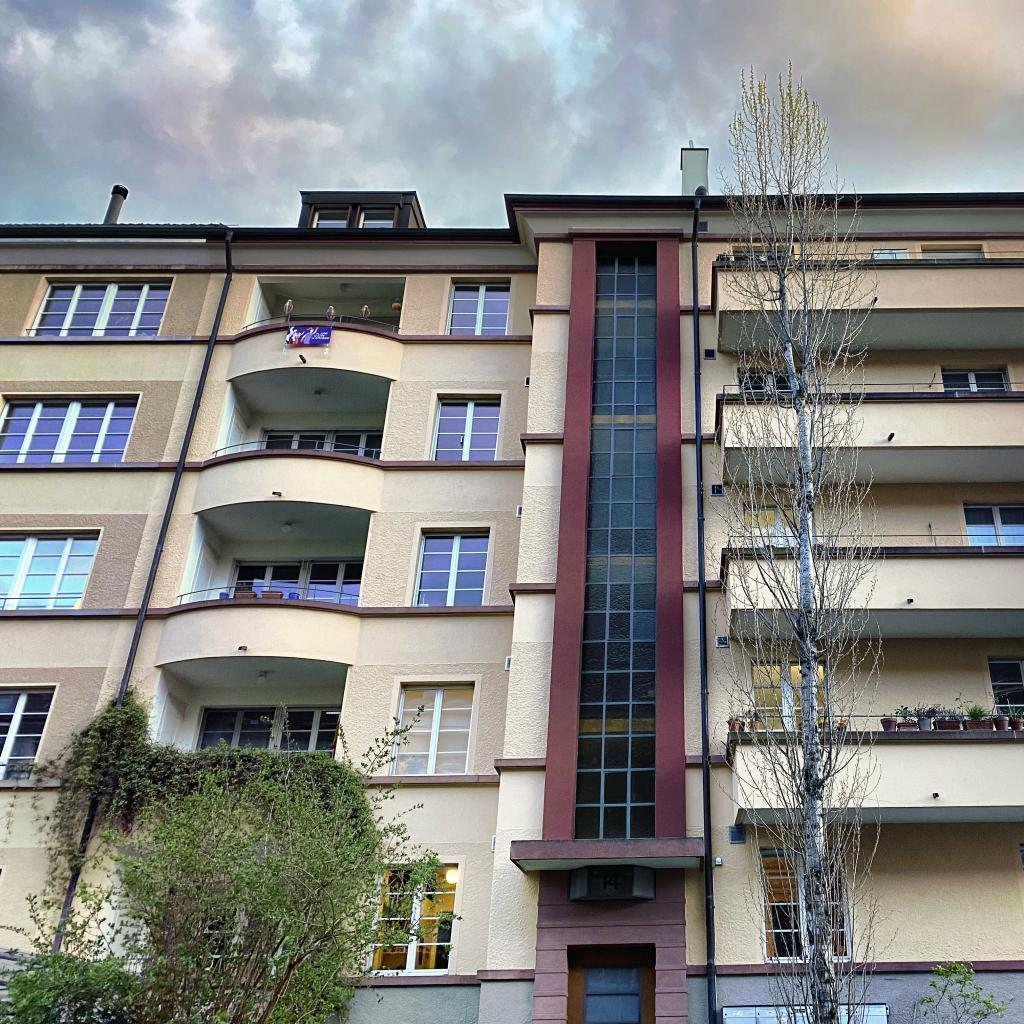balcony-fence: (733, 711, 1024, 732), (723, 380, 1024, 394), (726, 534, 1024, 547), (175, 585, 359, 606), (212, 439, 381, 460), (715, 249, 1024, 260), (242, 313, 401, 334)
facade: (0, 138, 1024, 1024)
traffic-infrastructure: (679, 139, 718, 1024)
vegetation: (698, 55, 1024, 1024), (0, 677, 469, 1024)
window: (574, 240, 657, 837), (757, 843, 855, 962), (364, 861, 461, 973), (0, 393, 141, 465), (23, 275, 175, 335), (386, 680, 477, 776), (193, 704, 342, 762), (0, 529, 101, 611), (222, 556, 364, 606), (409, 526, 491, 605), (748, 656, 834, 729), (0, 684, 58, 781), (428, 392, 503, 461), (443, 277, 513, 335), (257, 427, 383, 459), (742, 502, 815, 546), (986, 655, 1024, 729), (962, 501, 1024, 546), (940, 364, 1012, 392), (735, 365, 807, 392), (730, 243, 795, 260), (919, 243, 986, 259), (310, 207, 350, 228), (357, 207, 396, 228)
